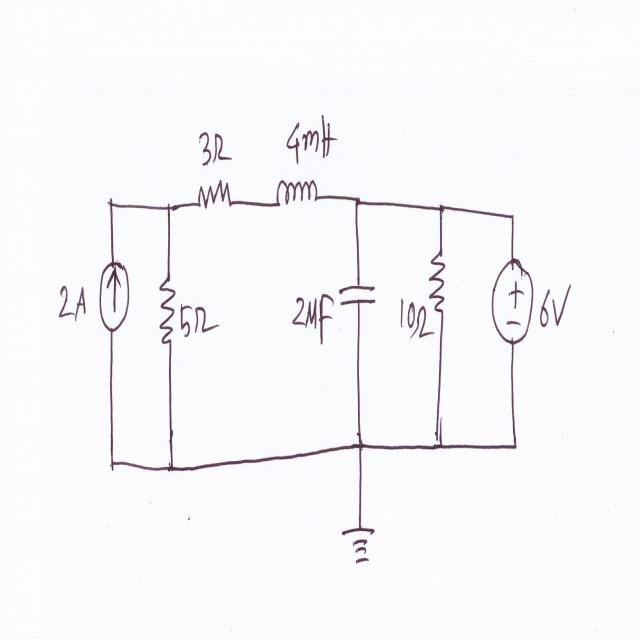capacitor: (335, 279, 379, 317)
current_source: (94, 261, 132, 336)
ground: (332, 518, 380, 576)
inductor: (271, 165, 325, 222)
resistor: (155, 268, 181, 355), (190, 172, 236, 218), (427, 239, 450, 322)
voltage_source: (490, 247, 538, 348)
